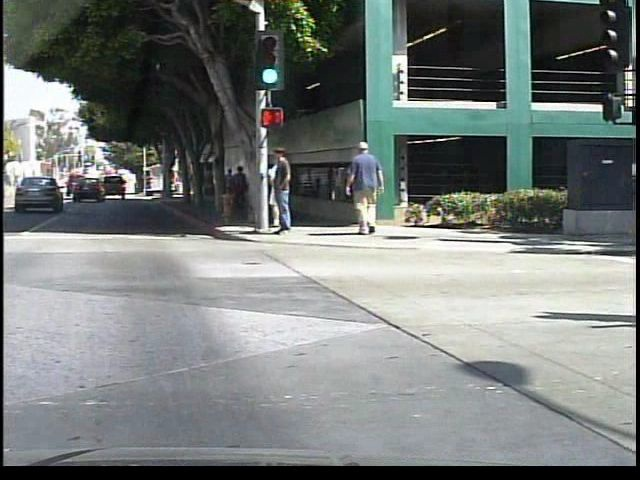person: (343, 139, 391, 237), (262, 142, 301, 243), (265, 146, 295, 229), (232, 163, 252, 213)
